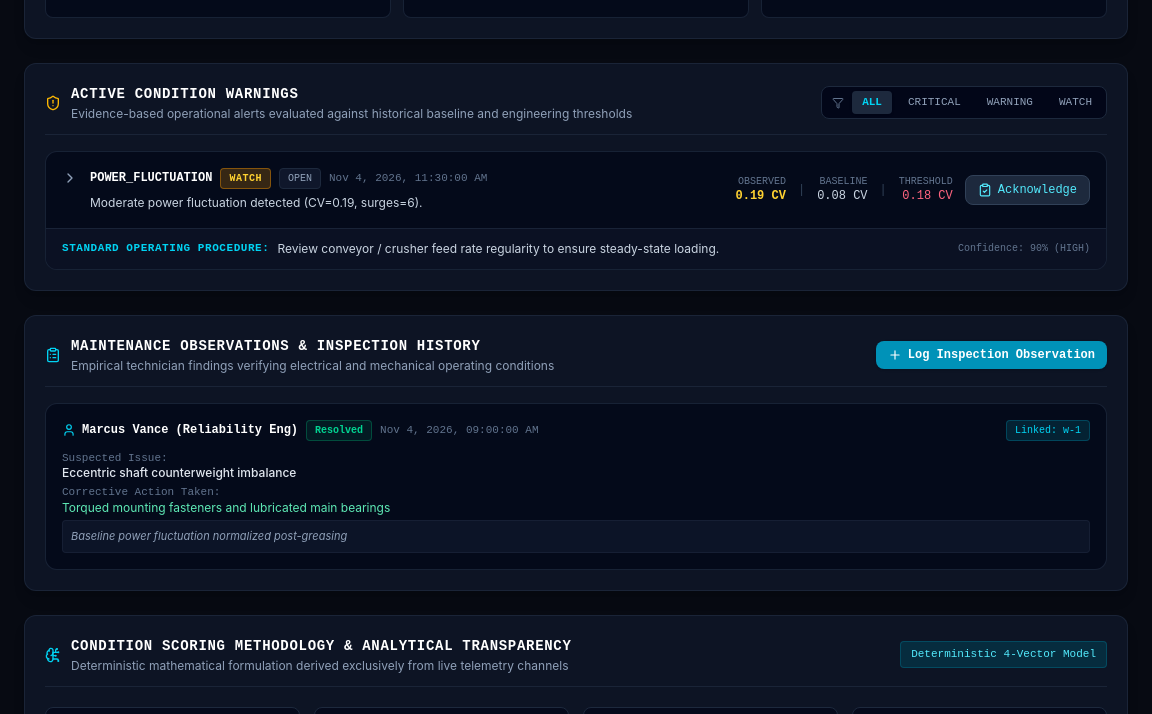
MachineHealthView › opens observation modal and submits inspection record
Later steps or results of the test are not shown.
(page scrolled)
Expected: the text "Log Inspection Observation" is shown, x1=908 y1=347 x2=1095 y2=363
Click the button "Log Inspection Observation". click: (991,355)
box: x1=876 y1=341 x2=1107 y2=369
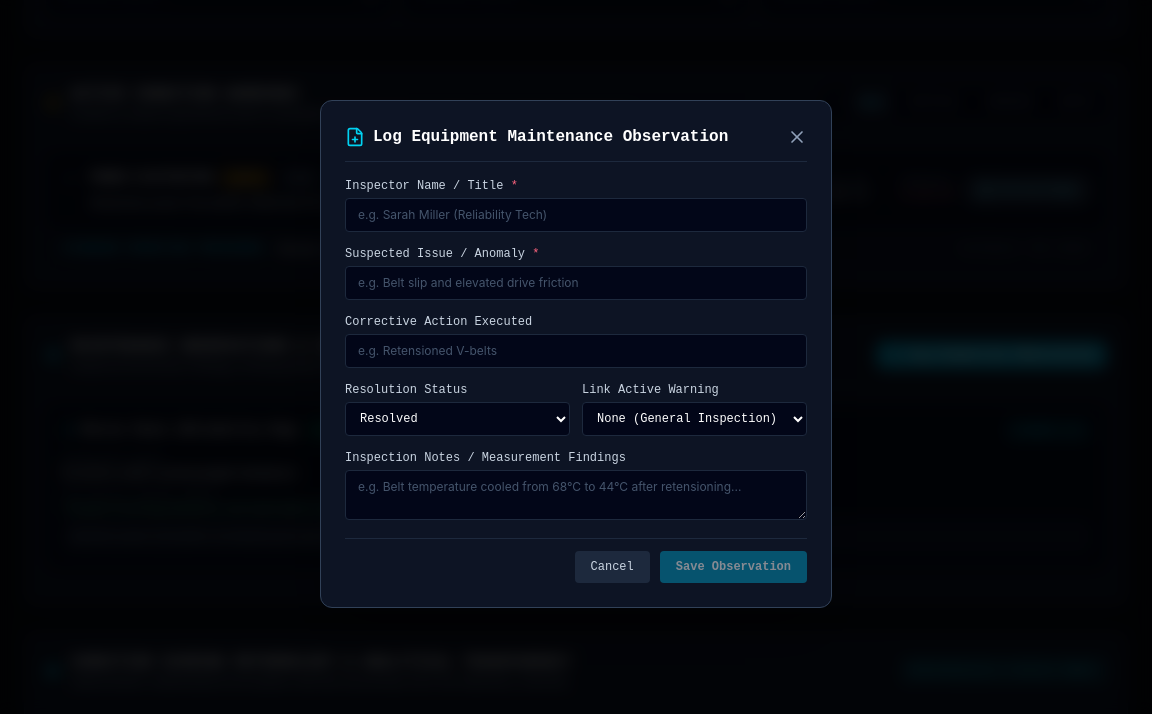
Result: the heading "Log Equipment Maintenance Observation" is shown at x1=373 y1=125 x2=728 y2=149
